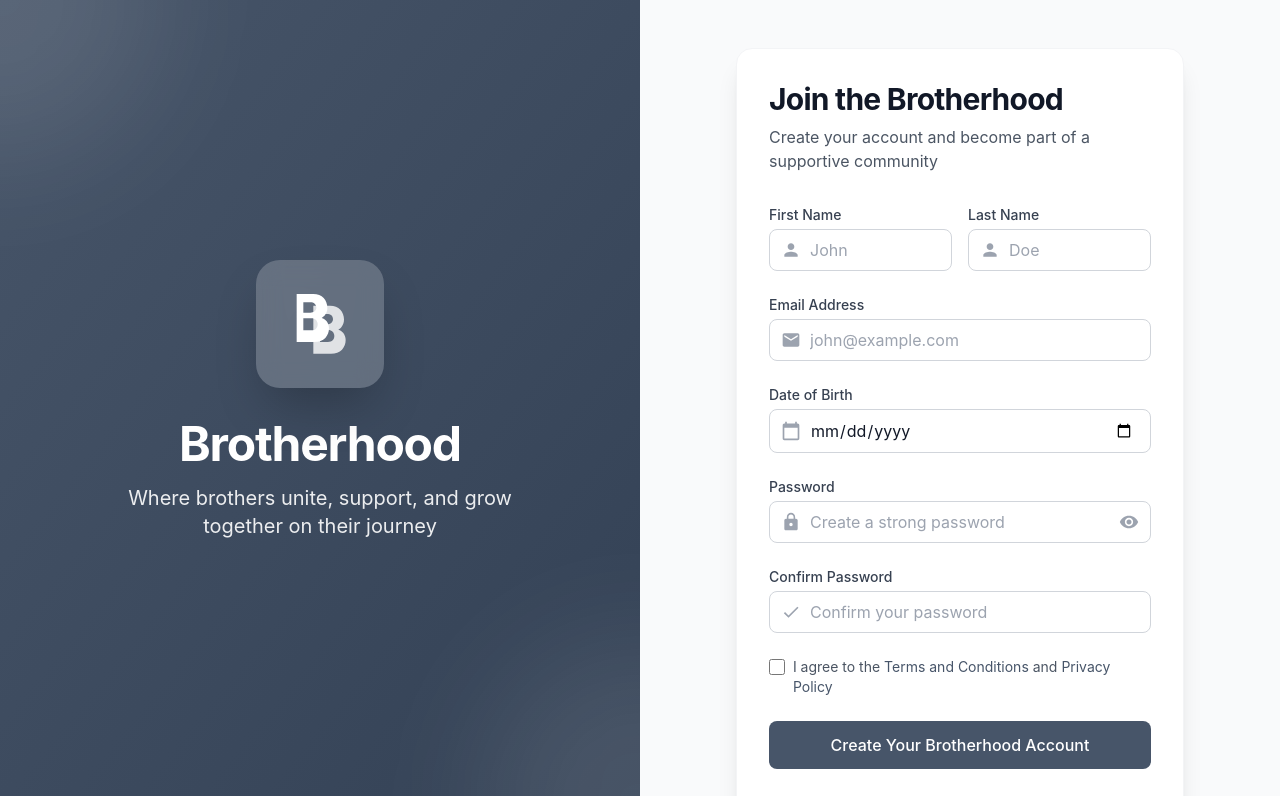
Test: Register Page › Form Validation › should show error for empty first name
Click the field labelled "First Name". click: (860, 250)
box: x1=769 y1=229 x2=952 y2=271
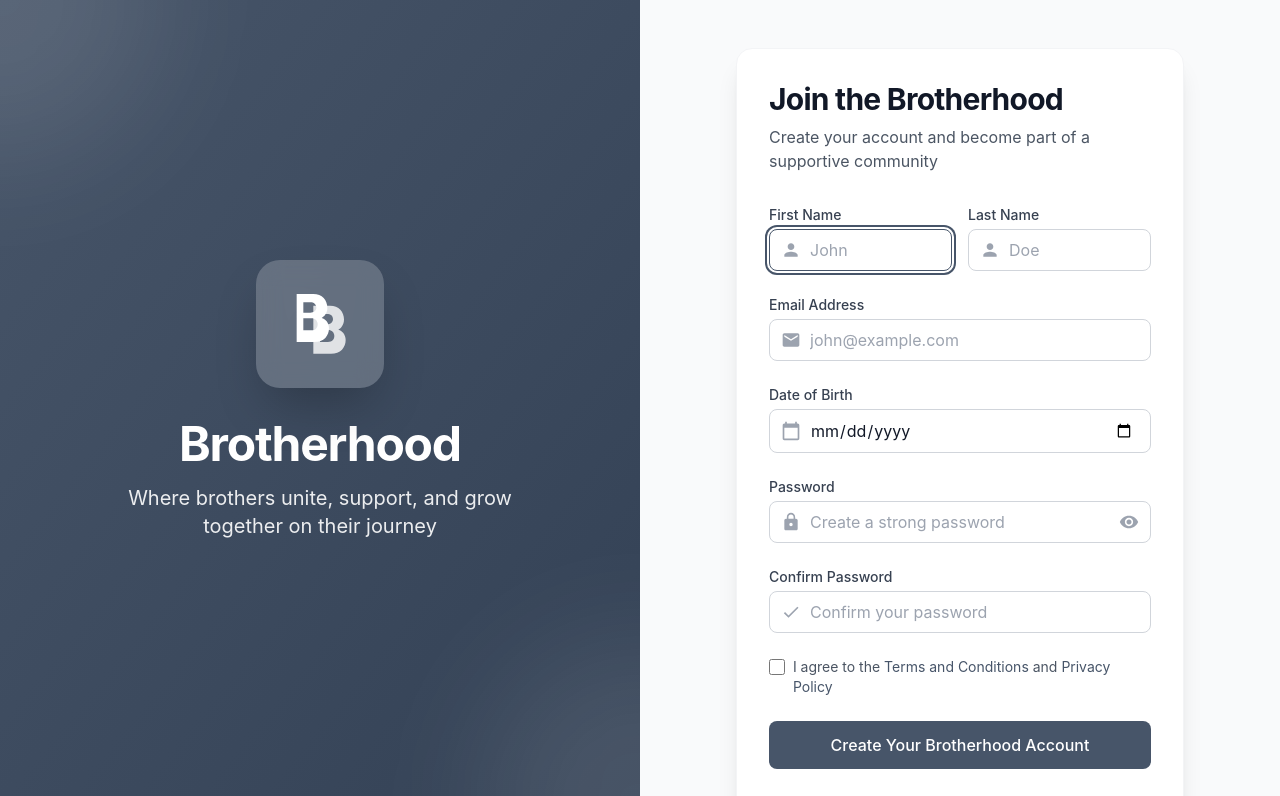
Press Tab
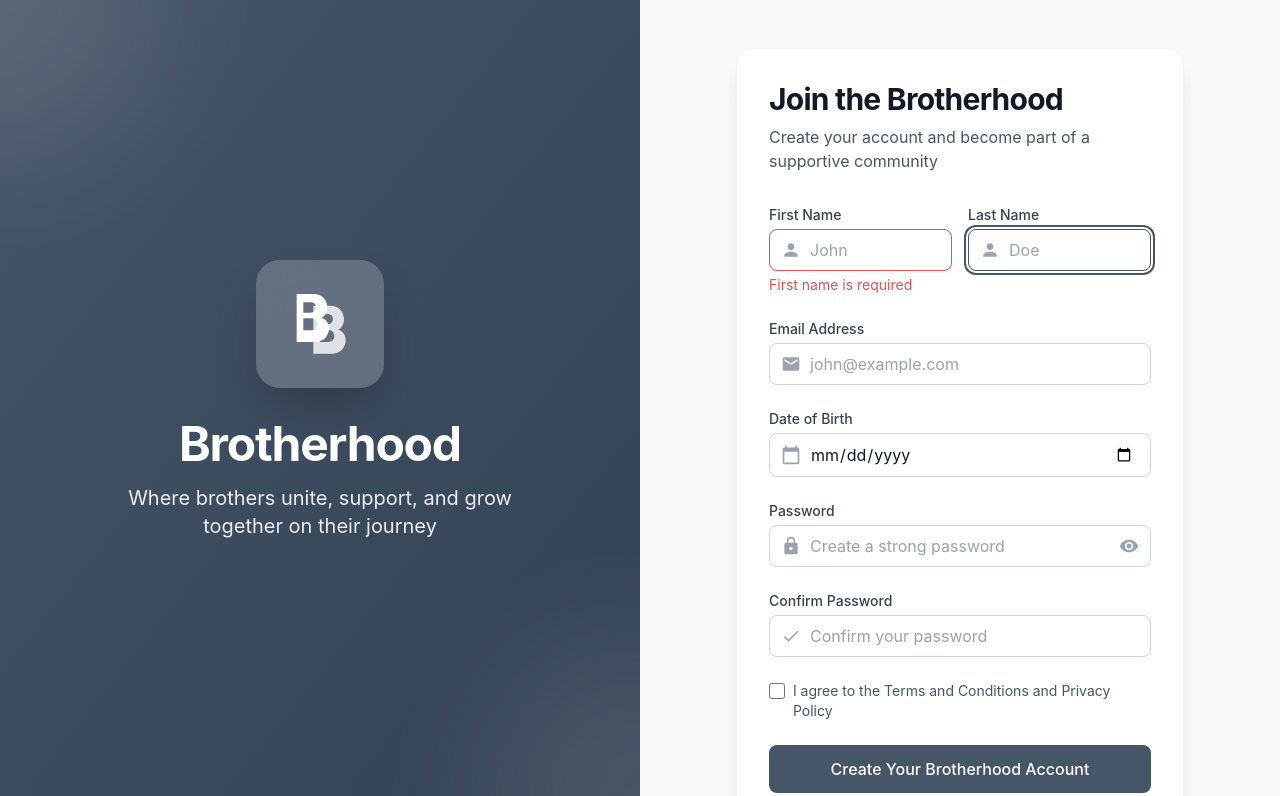
Expected: the text "First name is required" is shown, x1=769 y1=276 x2=912 y2=293
